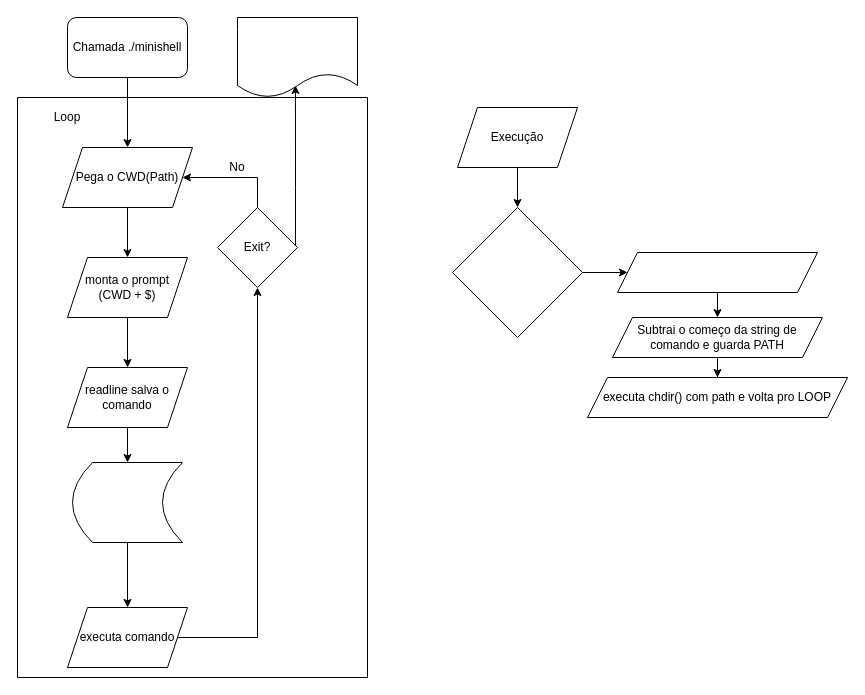
This 865x695 diagram has some shape labels left out. Each missing label, with the centre of its shape:
"add_history" belongs at point (127, 502).
"Busca posição do ' ' depois do 'cd' e guarda no 'space'" belongs at point (717, 272).
"Existe 'cd' nas primeiras 3 posições ?" belongs at point (517, 272).
"Sai do Programa" belongs at point (297, 57).
